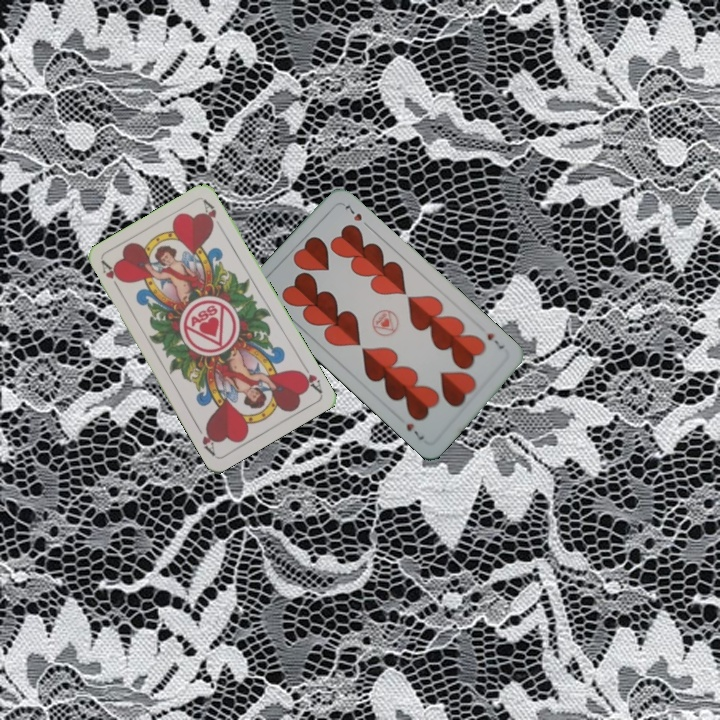H7: (483, 329, 506, 352)
HA: (295, 359, 325, 396), (97, 257, 124, 295)
